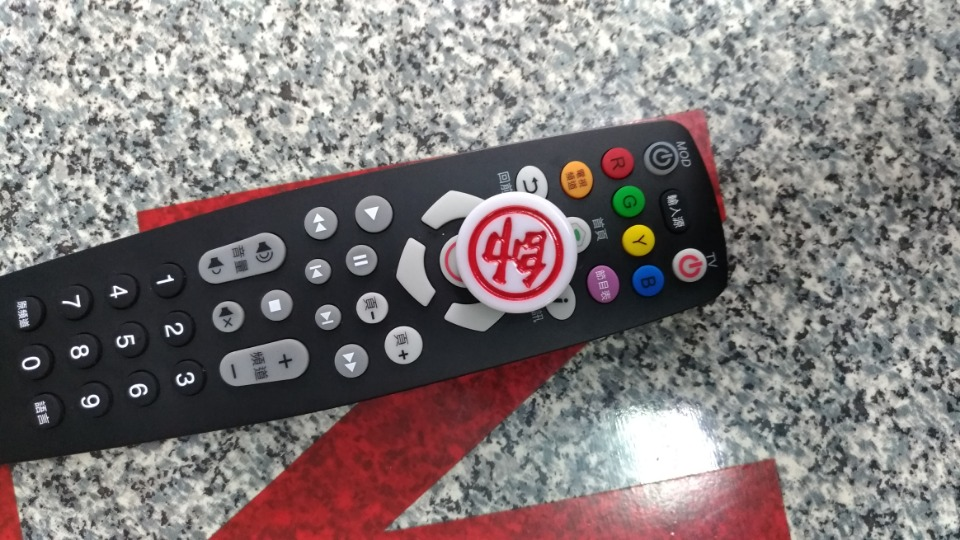r-king: (454, 191, 583, 320)
